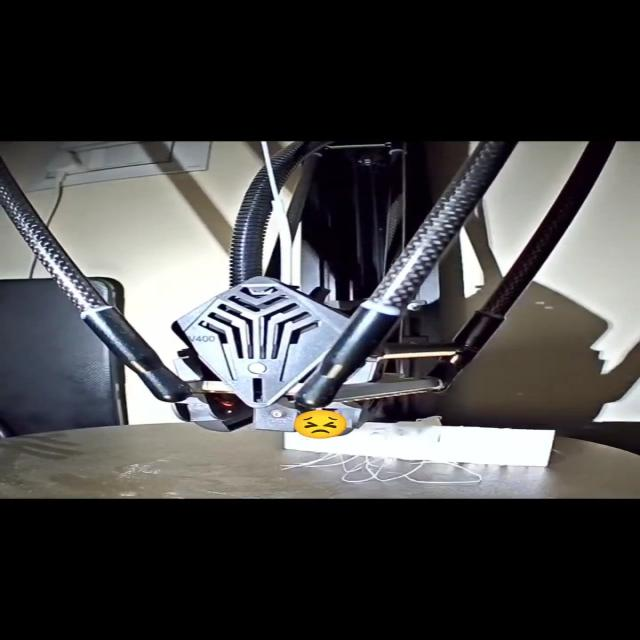spaghetti: (281, 450, 509, 490)
